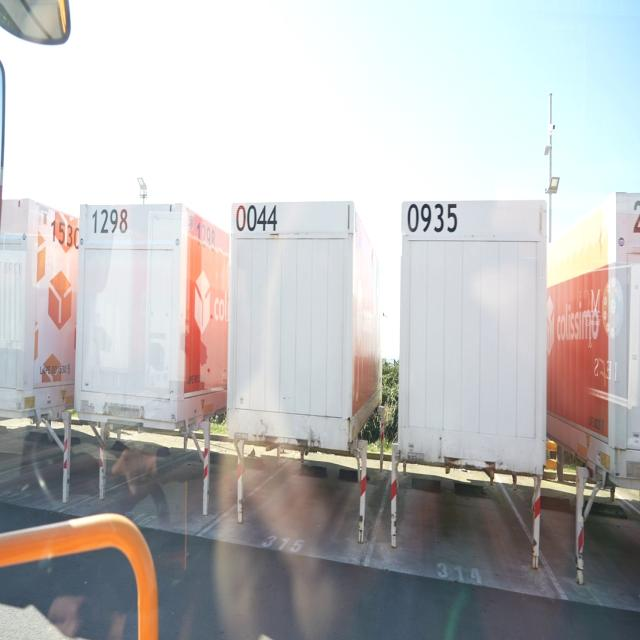Code: (404, 196, 466, 241), (232, 200, 282, 242), (47, 212, 84, 256), (90, 202, 132, 240), (195, 212, 218, 256)
